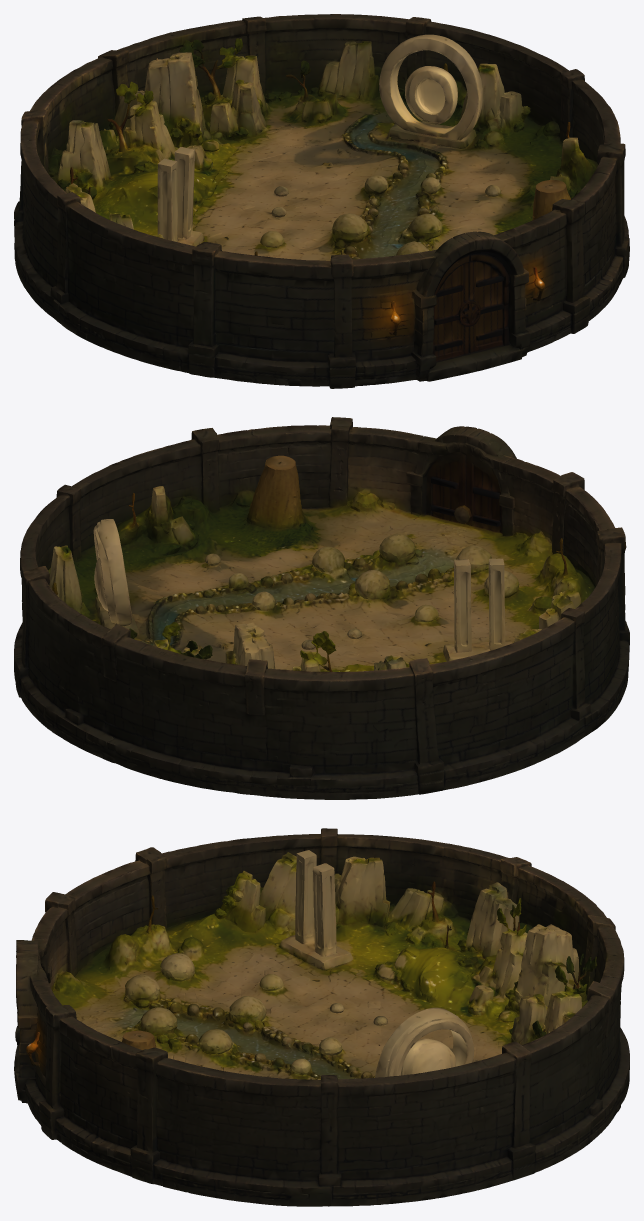
3 renders of one model, top to bottom at view 1: azimuth 30°, elevation 25°; view 2: azimuth 150°, elevation 25°; view 3: azimuth 270°, elevation 25°, orthographic.
Visible parts, largest first — view 1: model; view 2: model; view 3: model.
Boxes of the visible parts, bbox=[...] form: model: bbox=[14, 14, 629, 388]; model: bbox=[14, 417, 629, 799]; model: bbox=[14, 828, 629, 1206].
Size of the model in its own units: 79.28 by 20.58 by 78.97.
Materials: 1 (1 with a texture image).
